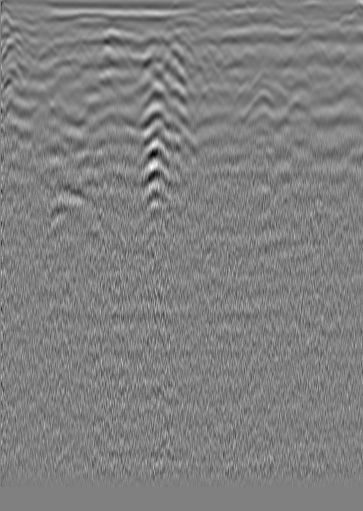가스: (261, 162, 298, 191)
상수: (1, 36, 21, 56)
오수: (297, 28, 317, 48)
우수: (142, 29, 162, 49)
